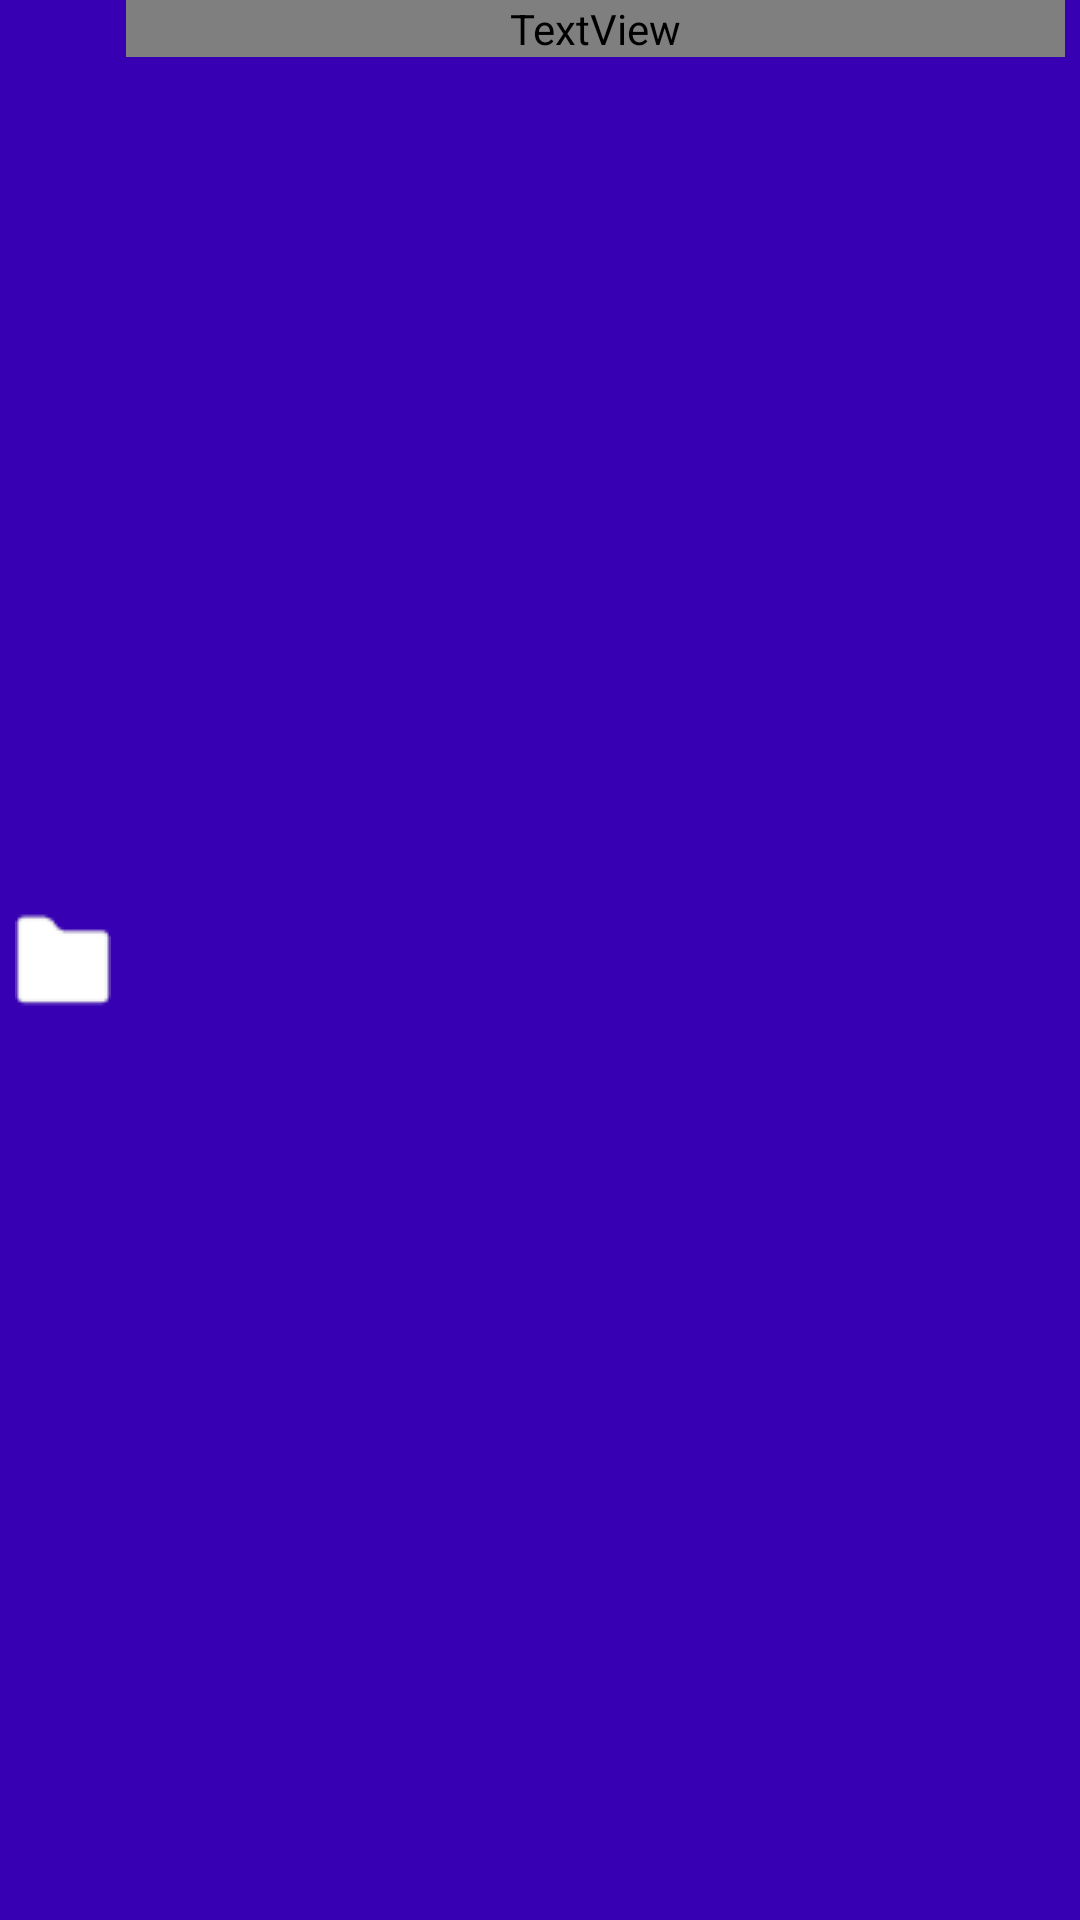

Where to tap for icons on this 1080px×1920px app screen, as (x=x, y=y):
folder: (x=63, y=959)
